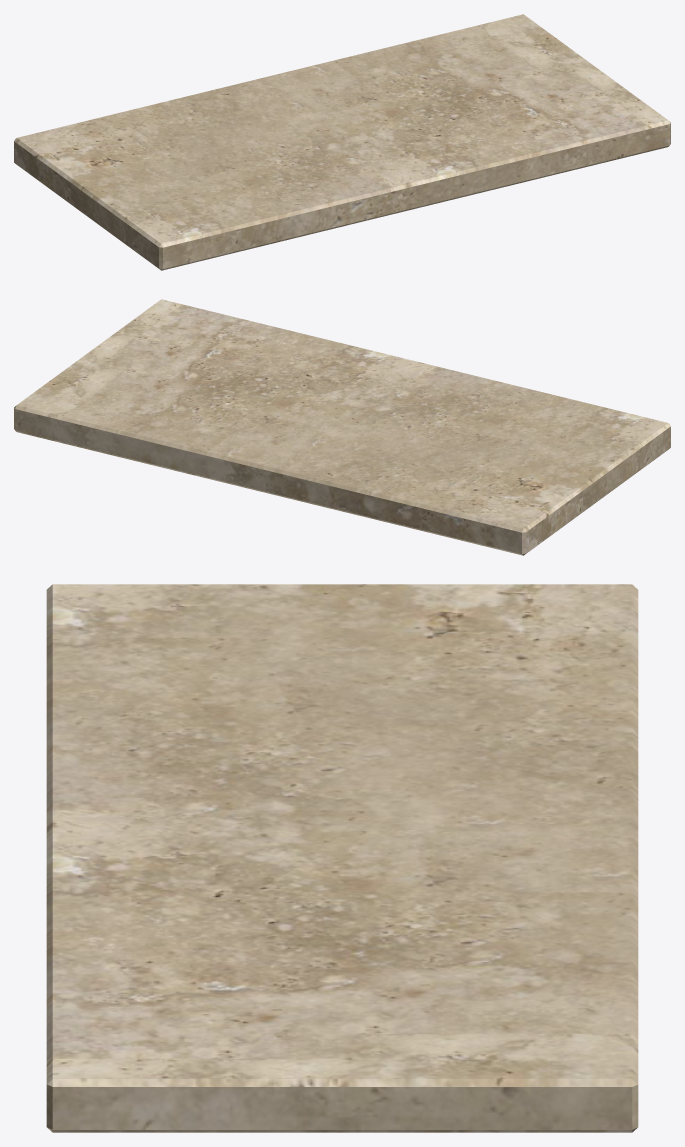
File: ground_big.FBX
3 renders of one model, top to bottom at view 1: azimuth 30°, elevation 25°; view 2: azimuth 150°, elevation 25°; view 3: azimuth 270°, elevation 25°, orthographic. The views are drawn at different scales.
Parts seen in each view (by area): view 1: Box022; view 2: Box022; view 3: Box022.
Part boxes in pixels (x1,y1,x2,y2): Box022: (14, 14, 670, 270); Box022: (14, 299, 670, 555); Box022: (46, 584, 638, 1132).
Size of the model in its own units: 200 by 10 by 100.
